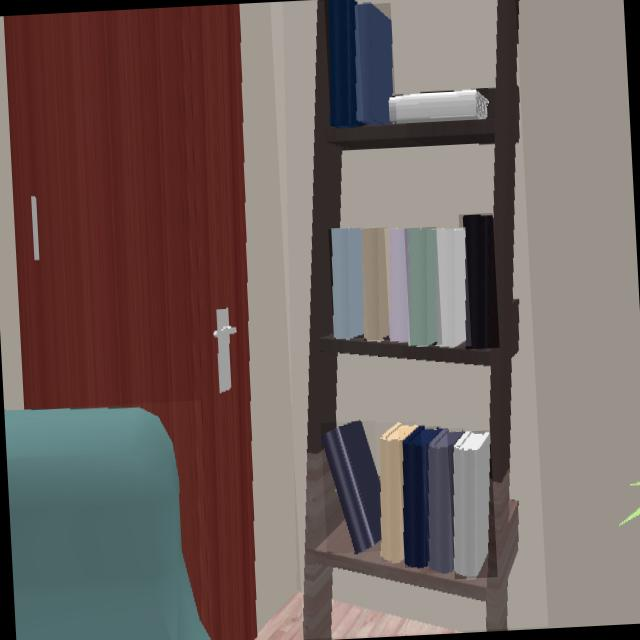book: (321, 421, 382, 551), (453, 432, 490, 578), (428, 429, 465, 573), (379, 423, 417, 562), (404, 427, 440, 567), (356, 4, 394, 125), (329, 0, 359, 125), (465, 216, 493, 348), (438, 229, 467, 347), (333, 229, 364, 339), (390, 90, 489, 123), (410, 229, 437, 345), (363, 229, 390, 340), (390, 230, 409, 341)
chair: (4, 408, 211, 640)
shelf: (304, 0, 519, 639), (497, 150, 515, 269)
